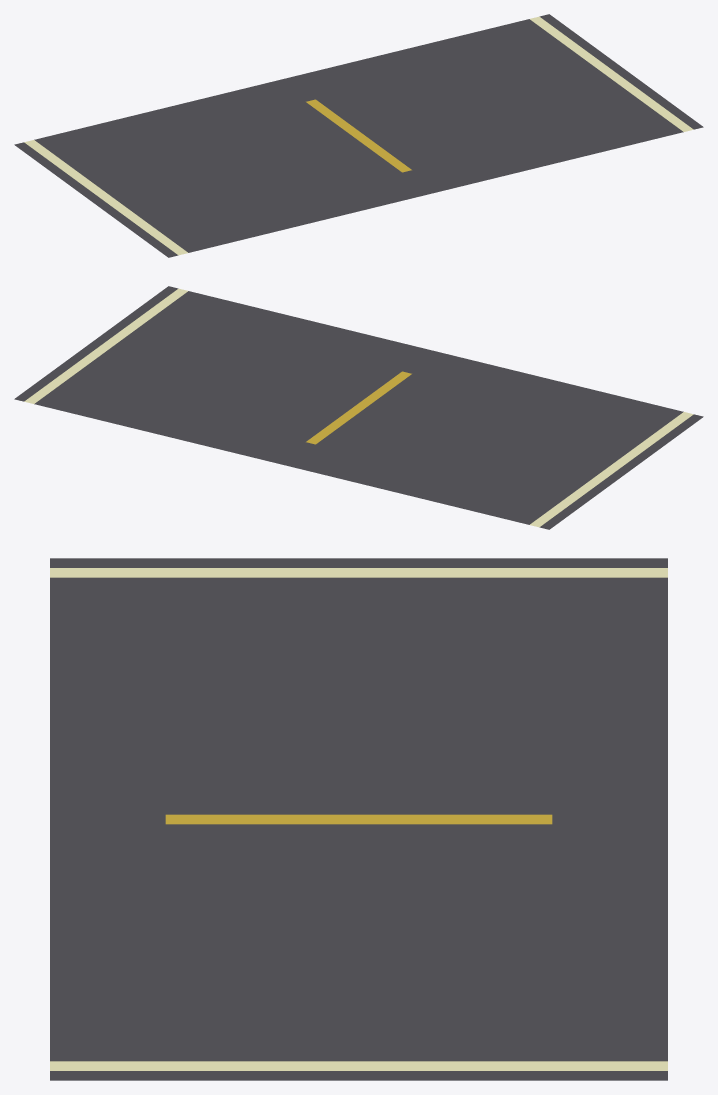
File: RoadWide.fbx
3 views of the same model, one above another, from view 1: azimuth 30°, elevation 25°; view 2: azimuth 150°, elevation 25°; view 3: azimuth 270°, elevation 25° (orthographic). The views are drawn at different scales.
Parts seen in each view (by area): view 1: RoadWide; view 2: RoadWide; view 3: RoadWide.
Boxes of the visible parts, bbox=[...] form: RoadWide: bbox=[14, 14, 703, 257]; RoadWide: bbox=[14, 286, 703, 529]; RoadWide: bbox=[50, 558, 667, 1080].
Size of the model in its own units: 800 by 8.88e-14 by 400.
